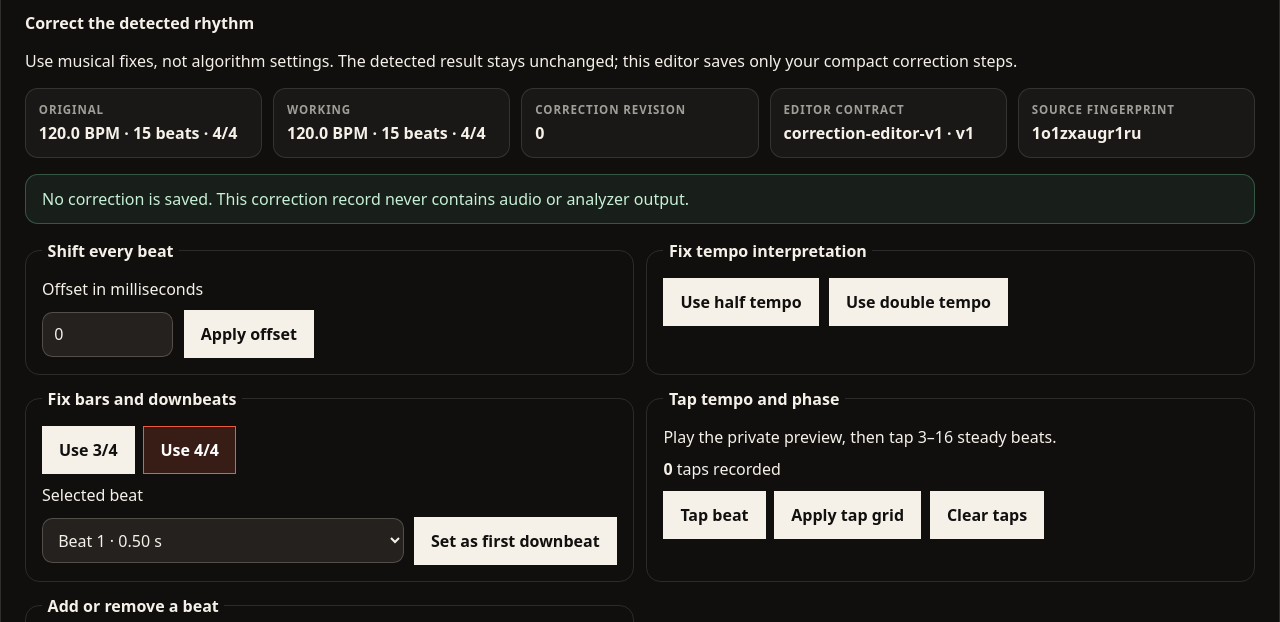
rhythm correction workspace › records preview-clock taps and applies a full tap grid
Click the button "Tap beat" at (714, 515), box [663, 491, 766, 539]
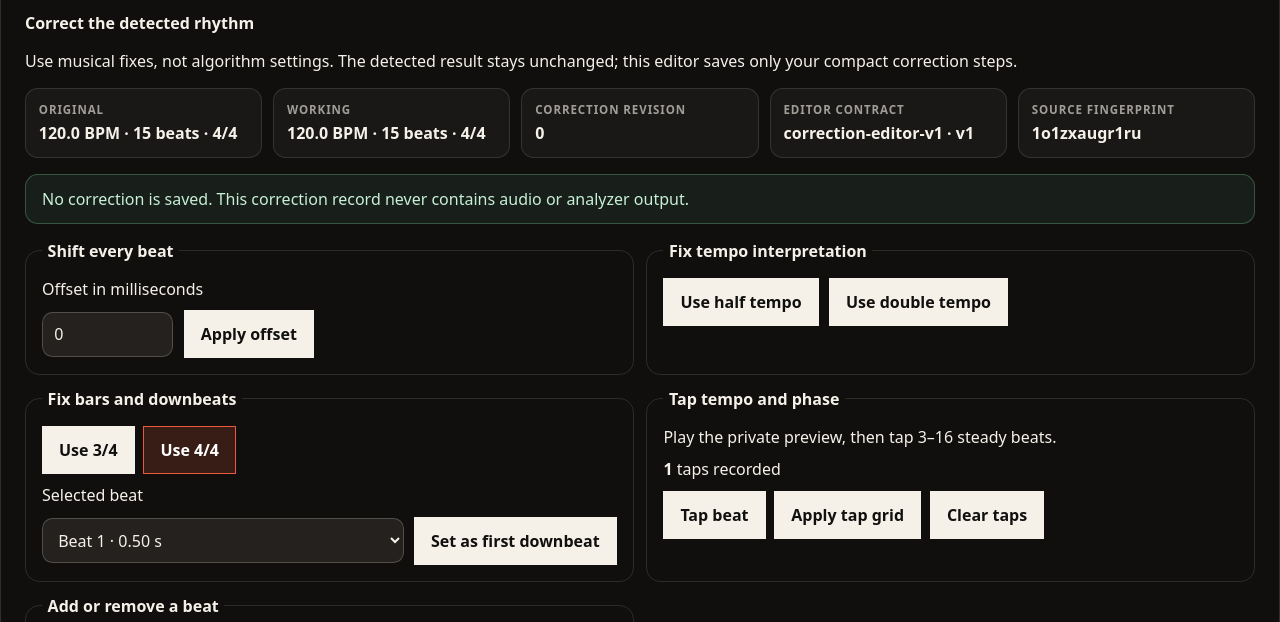
Click the button "Tap beat" at (714, 515), box [663, 491, 766, 539]
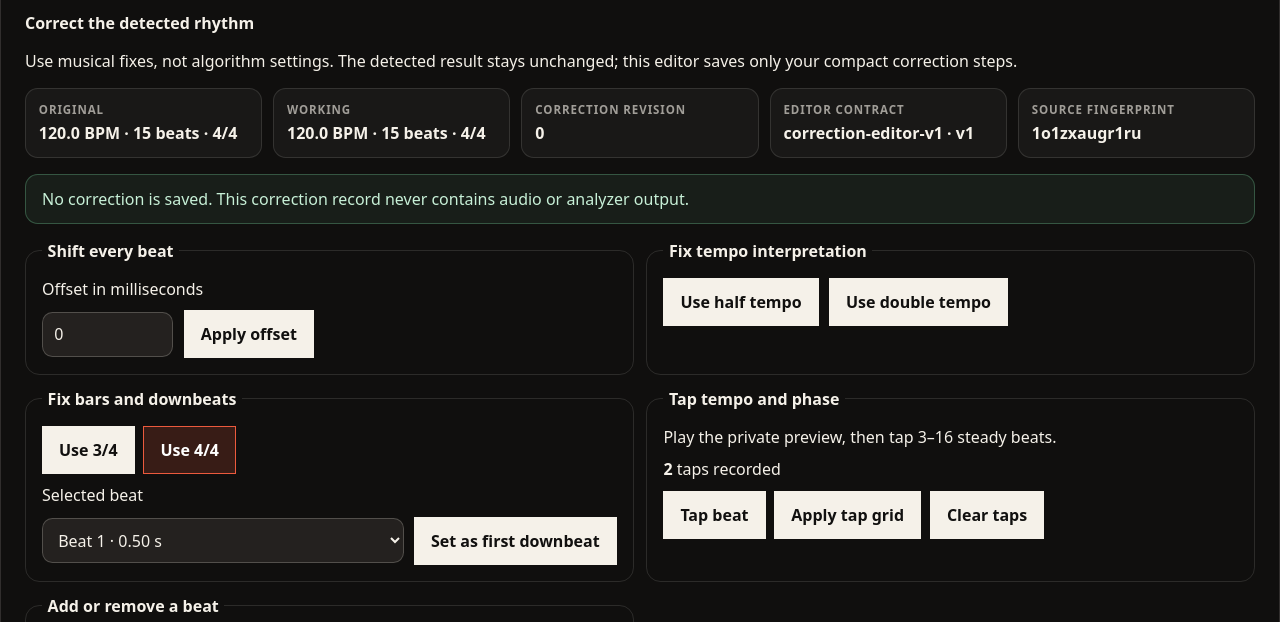
Click the button "Tap beat" at (714, 515), box [663, 491, 766, 539]
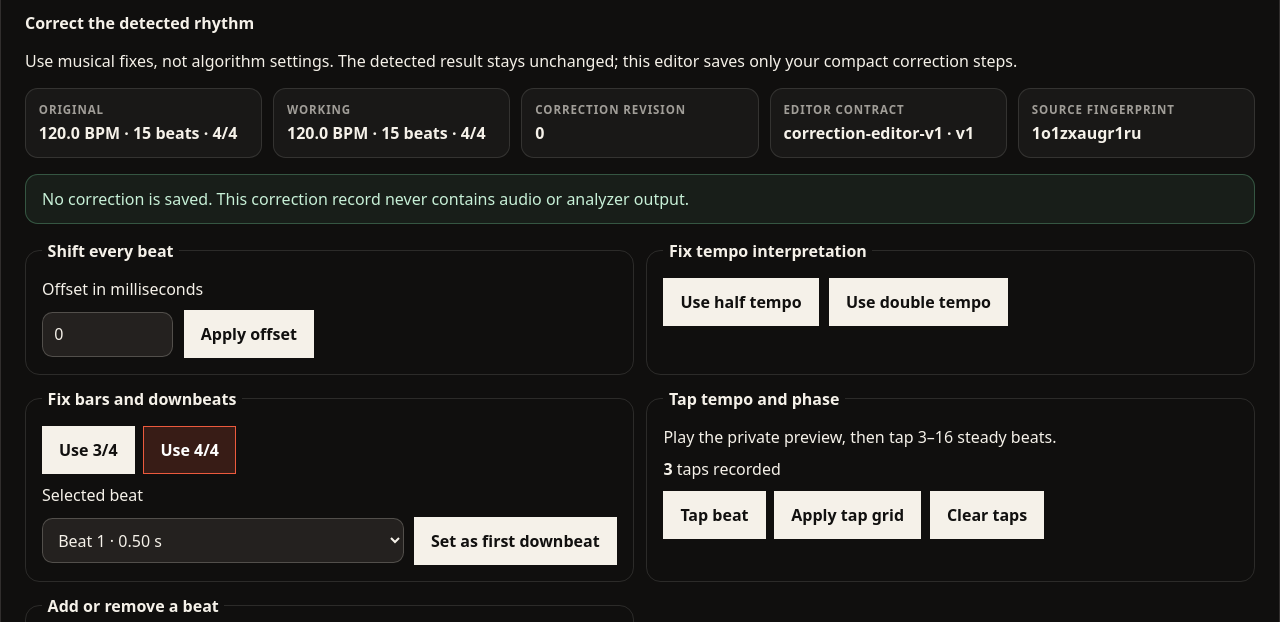
Click the button "Tap beat" at (714, 515), box [663, 491, 766, 539]
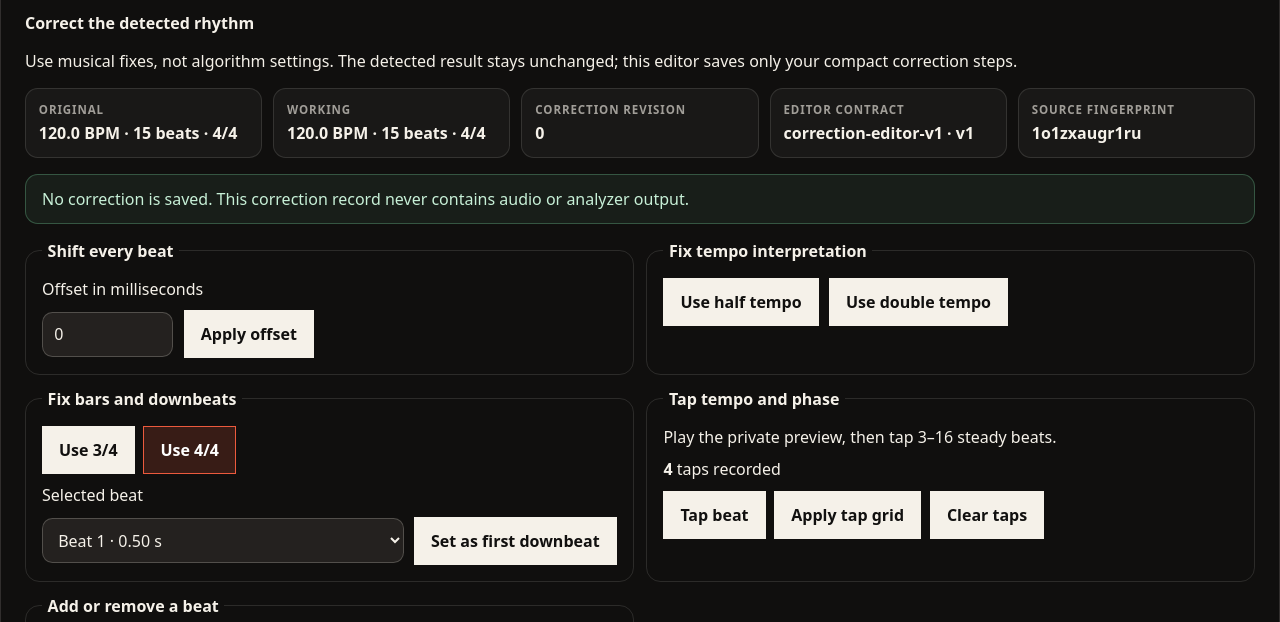
Result: the element showing "4 taps recorded" is shown at [663, 458, 781, 480]
Click the button "Apply tap grid" at (848, 515), box [774, 491, 921, 539]
(page scrolled)
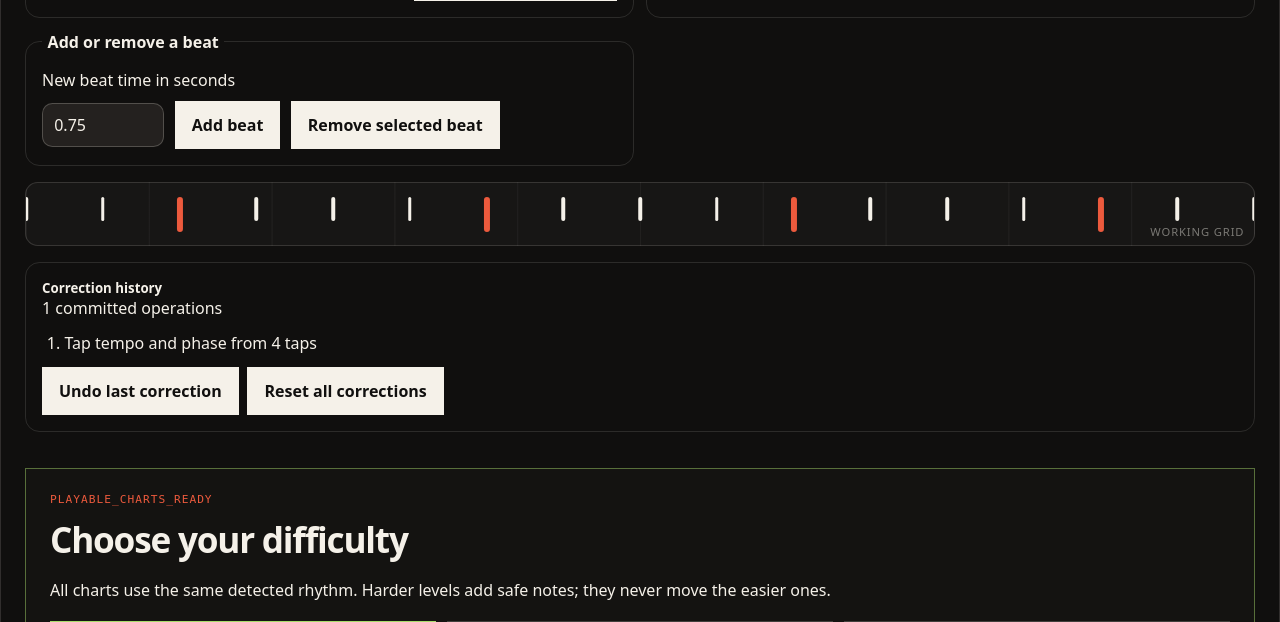
Result: the list item "Tap tempo and phase from 4 taps" is shown at [64, 332, 317, 354]
